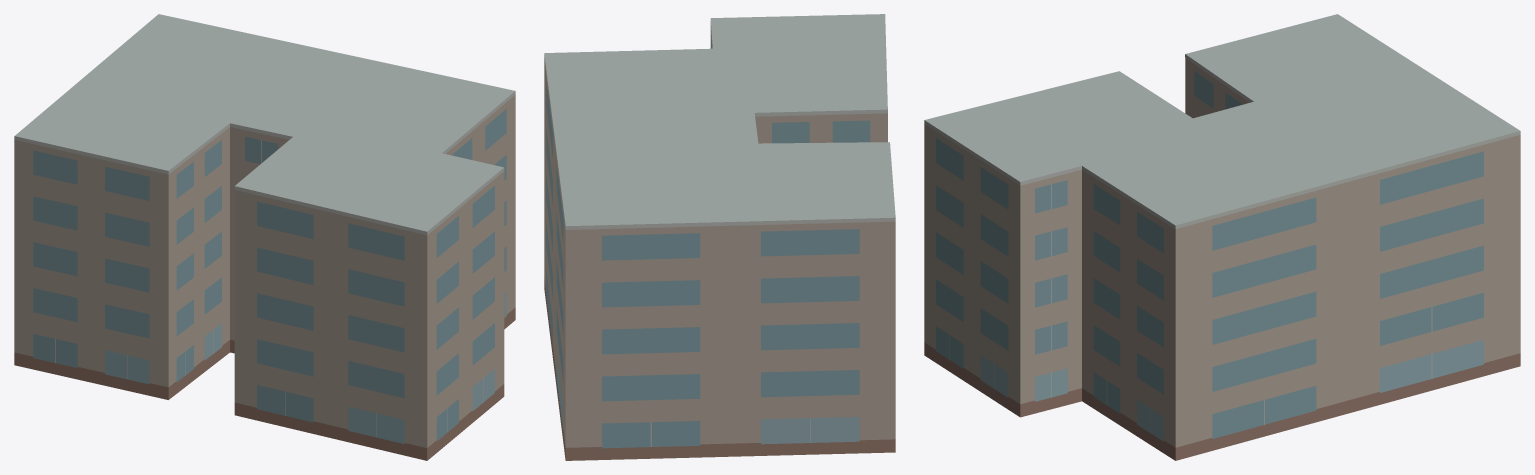
Rendered from survey-upis-32938302.glb.
3 renders of one model, left to right at view 1: azimuth 30°, elevation 25°; view 2: azimuth 150°, elevation 25°; view 3: azimuth 270°, elevation 25°, orthographic. The views are drawn at different scales.
Parts seen in each view (by area): view 1: survey-upis-32938302.tmp; view 2: survey-upis-32938302.tmp; view 3: survey-upis-32938302.tmp.
Part boxes in pixels (x1=…): survey-upis-32938302.tmp: x1=14, y1=14, x2=515, y2=460; survey-upis-32938302.tmp: x1=544, y1=14, x2=895, y2=460; survey-upis-32938302.tmp: x1=924, y1=14, x2=1520, y2=460.
Bounding box in the file's own units: 29.4 × 15.25 × 35.02.
